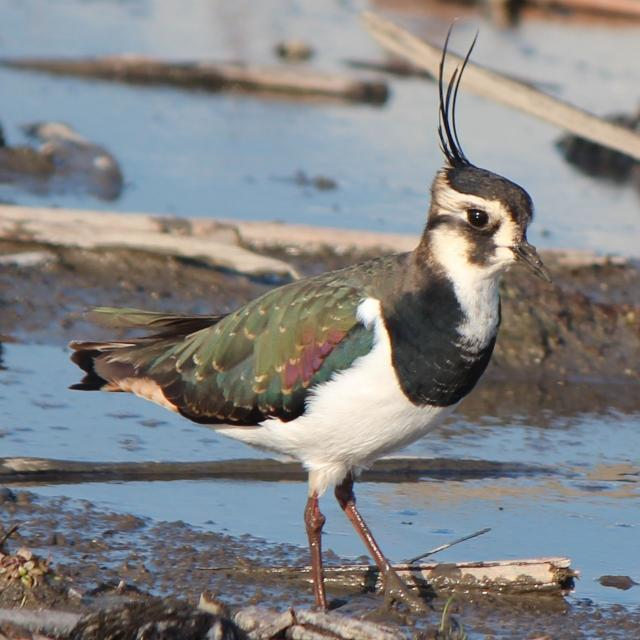bird: (53, 30, 545, 620)
